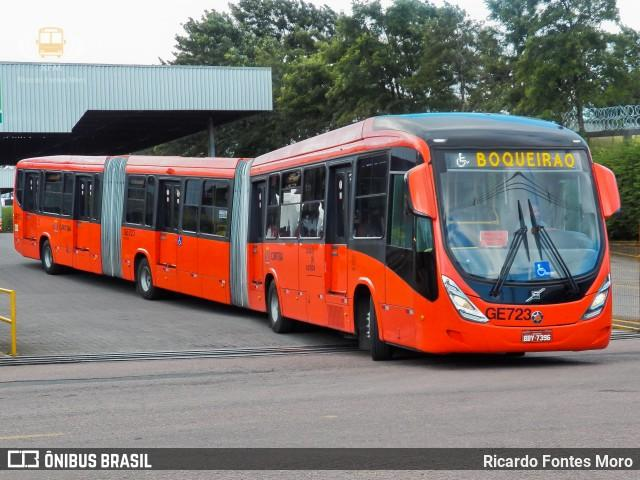BOQUEIRAO: (469, 149, 579, 173)
